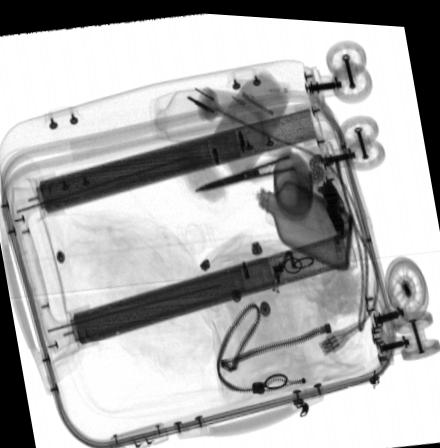Scissors: (190, 124, 317, 189)
